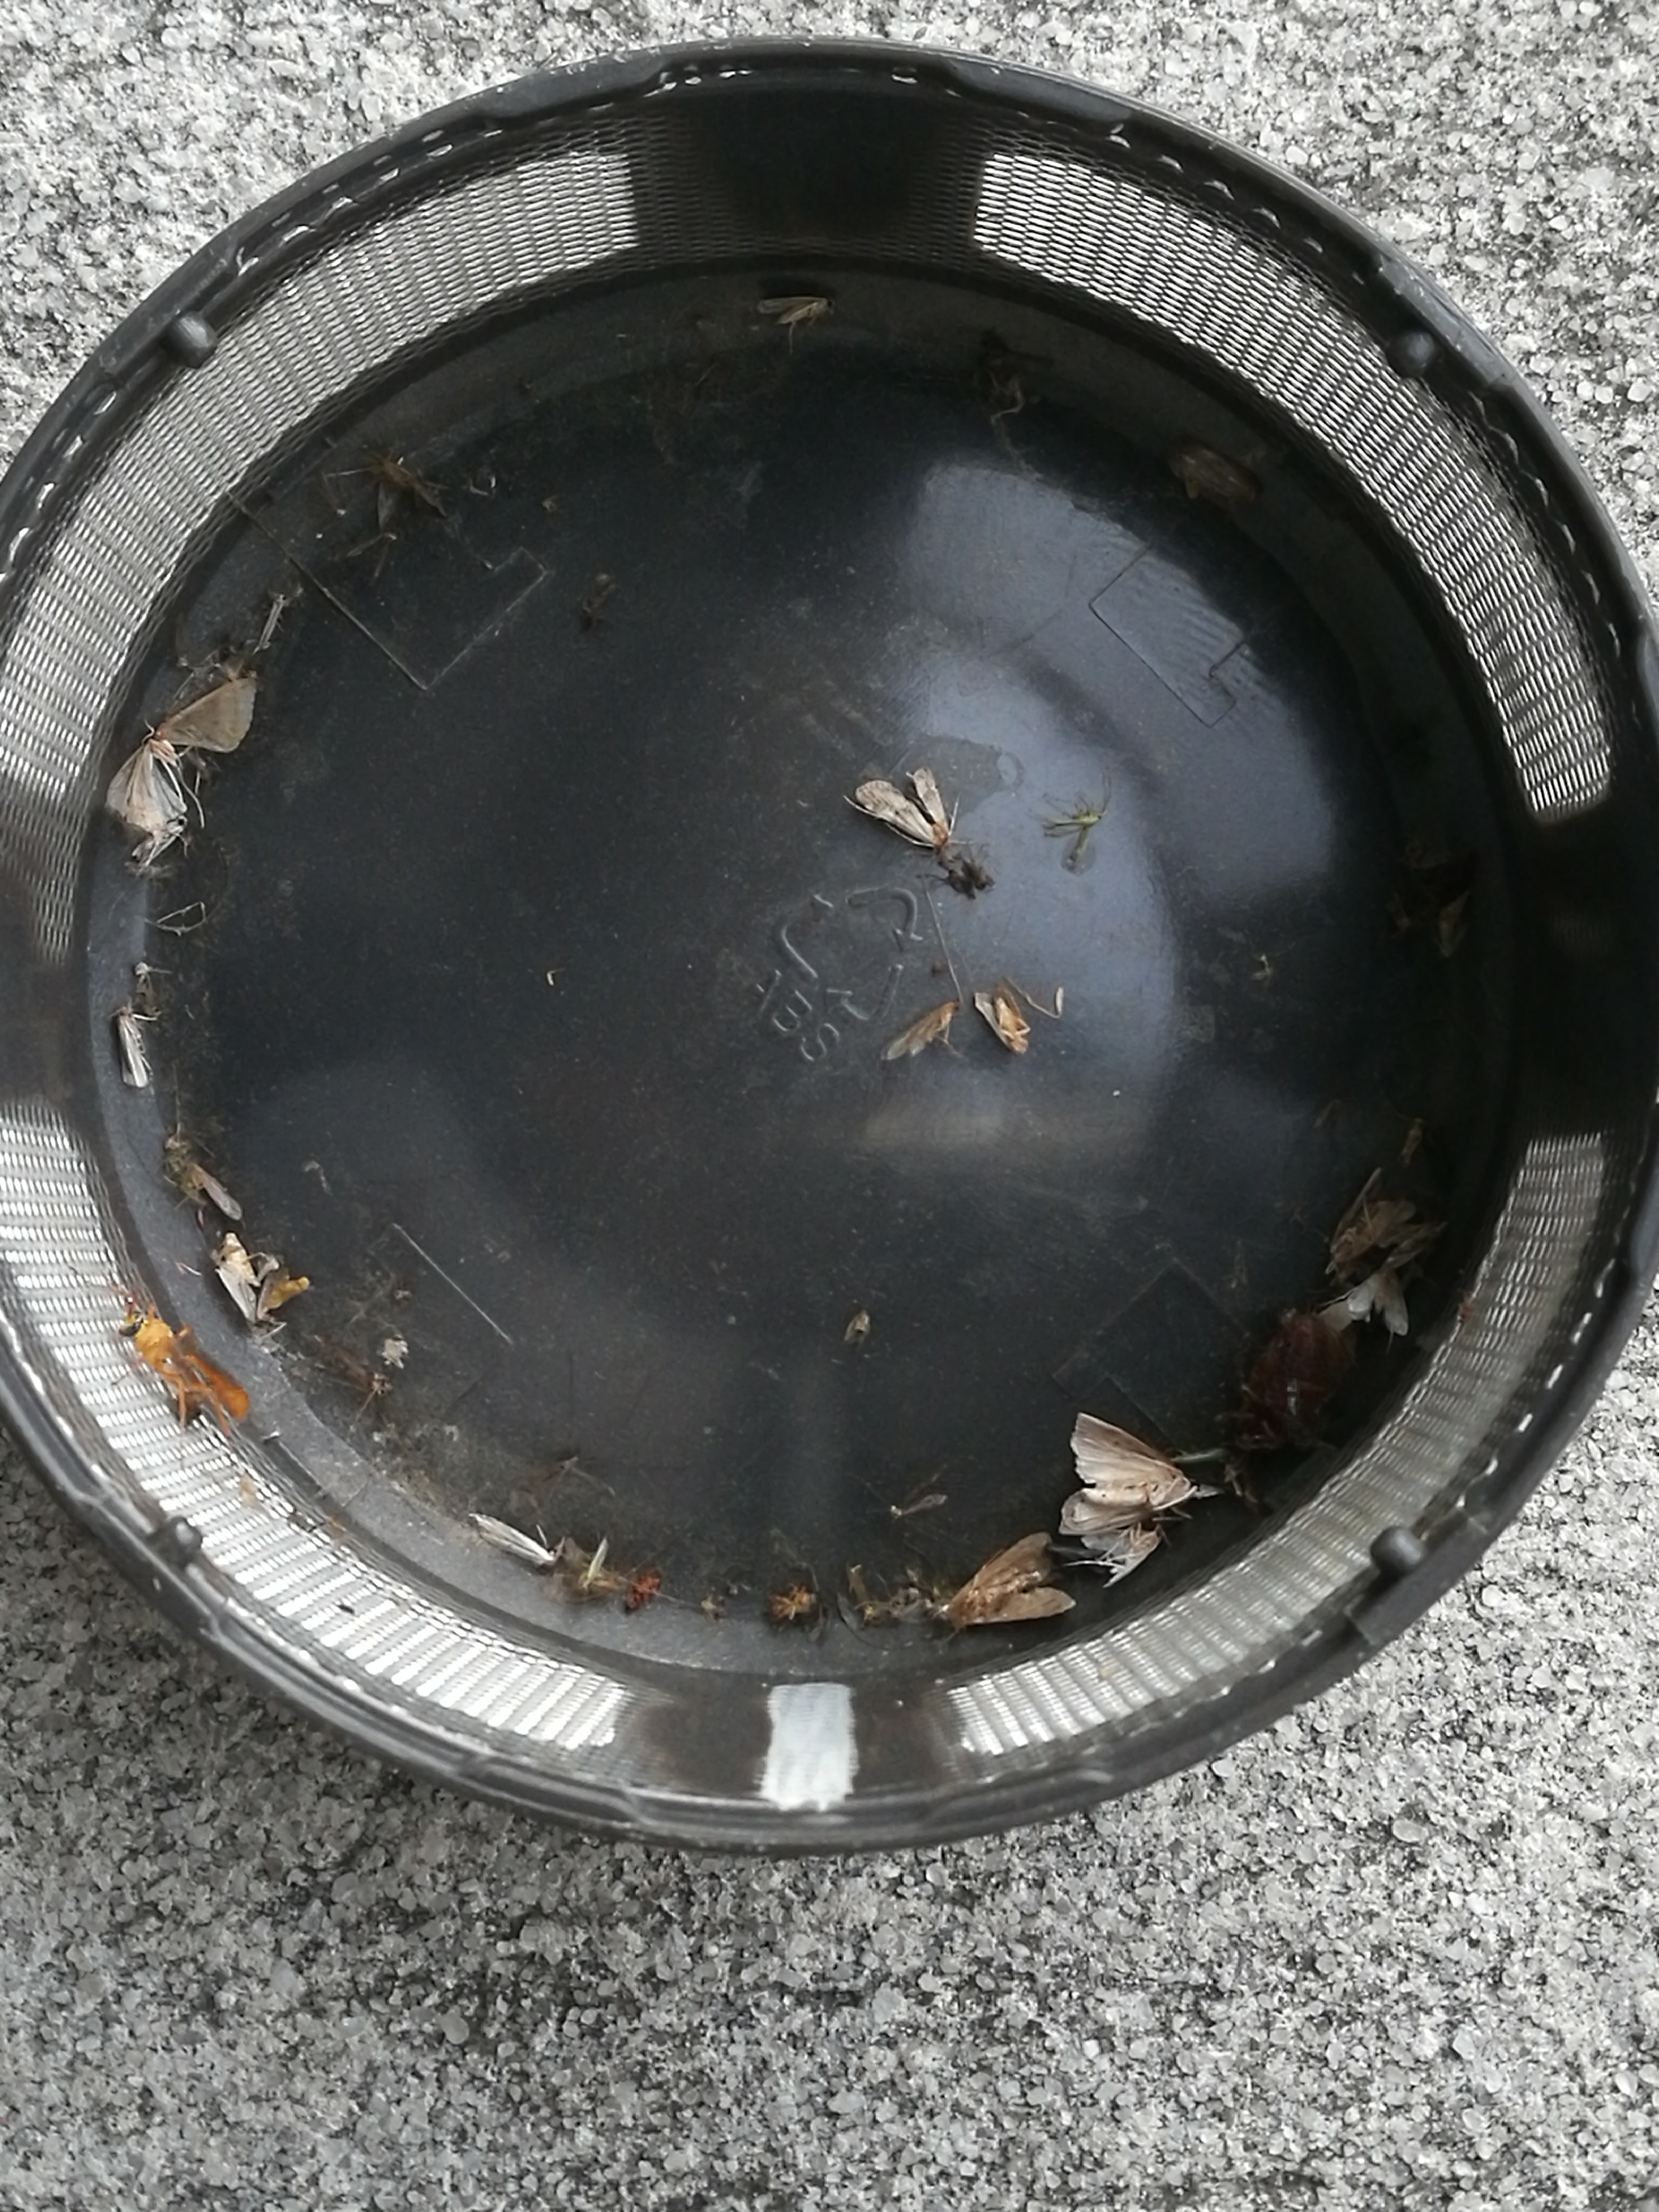beetle: (1234, 1312, 1354, 1451)
mosquito: (884, 1000, 964, 1057), (472, 1512, 552, 1566), (185, 1163, 242, 1217), (117, 1007, 146, 1087), (756, 298, 833, 324), (1321, 1296, 1375, 1331)
moth: (108, 674, 256, 831), (1060, 1413, 1199, 1536), (943, 1533, 1077, 1625), (1328, 1169, 1417, 1264), (856, 766, 951, 846), (1079, 1529, 1159, 1587), (1347, 1266, 1410, 1336), (976, 981, 1026, 1052), (1378, 1223, 1443, 1266)
